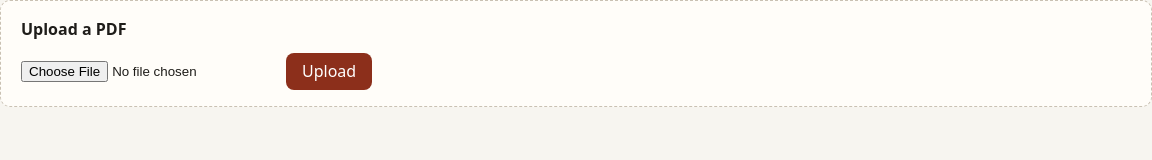
Test: posts the chosen PDF as multipart with its name and shows the id it was indexed with
Earlier steps of the test are not shown.
Click the button "Upload".
click(329, 71)  # box [286,53,372,90]
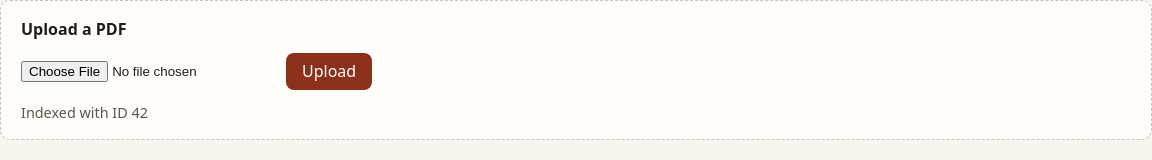
Check: the text "Indexed with ID 42" is shown, box [21,103,148,122]
